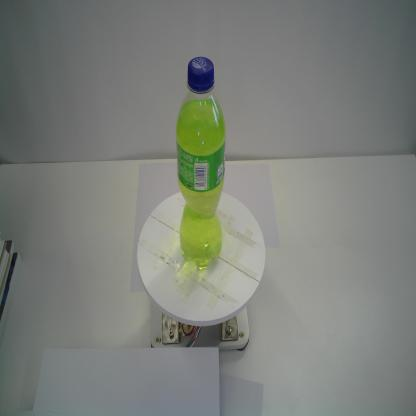Drink: (175, 56, 226, 271)
